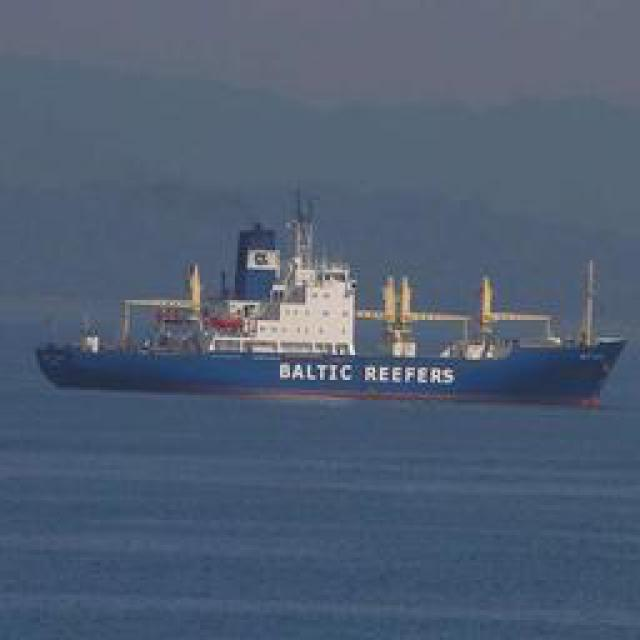Ship: (46, 255, 621, 400)
